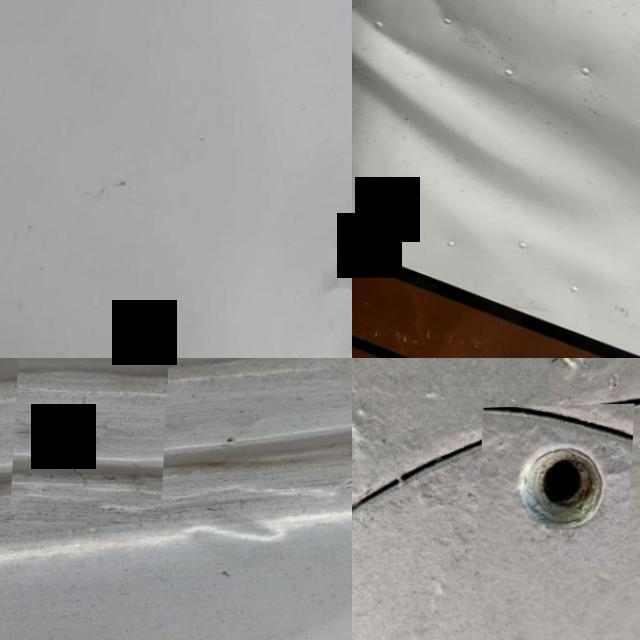Crack: (14, 358, 172, 528)
Dent: (352, 0, 640, 248), (328, 270, 352, 309)
Missing_Fastener: (480, 406, 638, 574)
